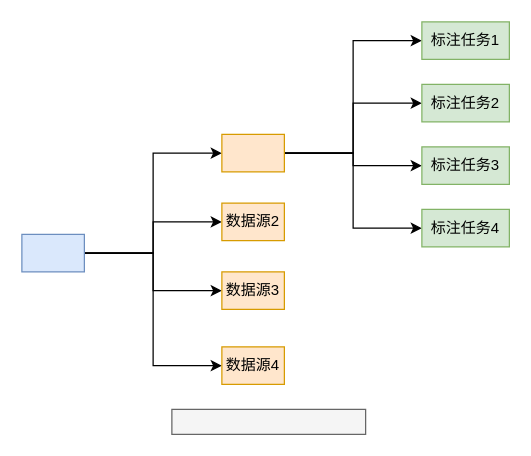
This 531x456 diagram has some shape labels left out. Each missing label, with the centre of its shape:
数据源1: [252,152]
项目: [52,252]
项目-数据源-标注任务关系: [268,421]
